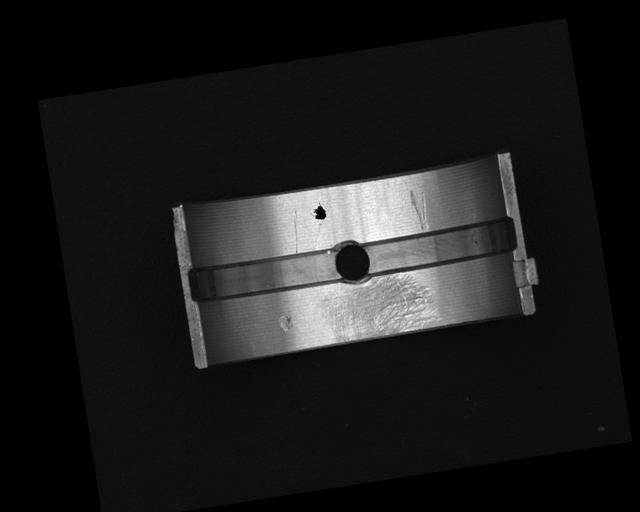blot: (310, 200, 328, 221)
bruise: (278, 315, 293, 333)
gap: (364, 216, 520, 276), (187, 245, 342, 304)
hole: (330, 235, 373, 286)
nick: (407, 186, 432, 231), (289, 210, 303, 253)
scratch: (315, 270, 442, 345)
